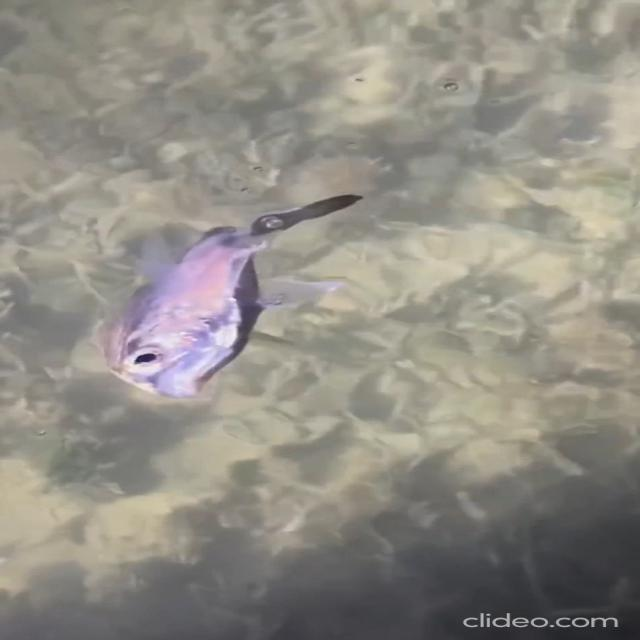fish: (87, 185, 420, 415)
